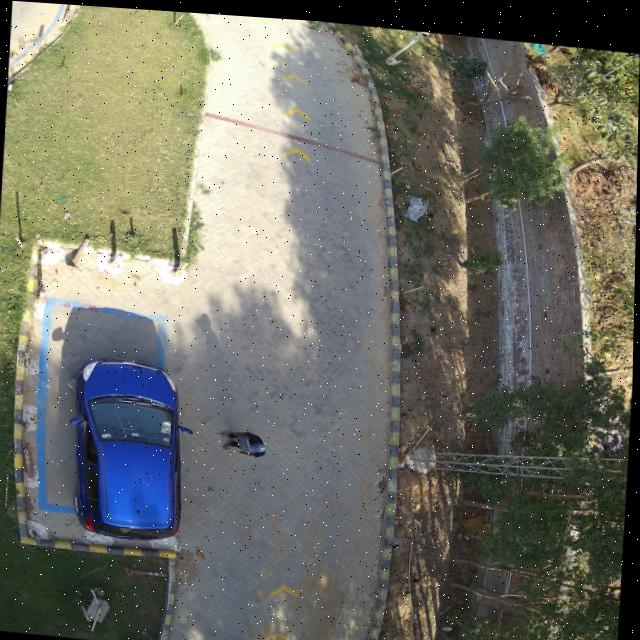car: (74, 357, 183, 537)
